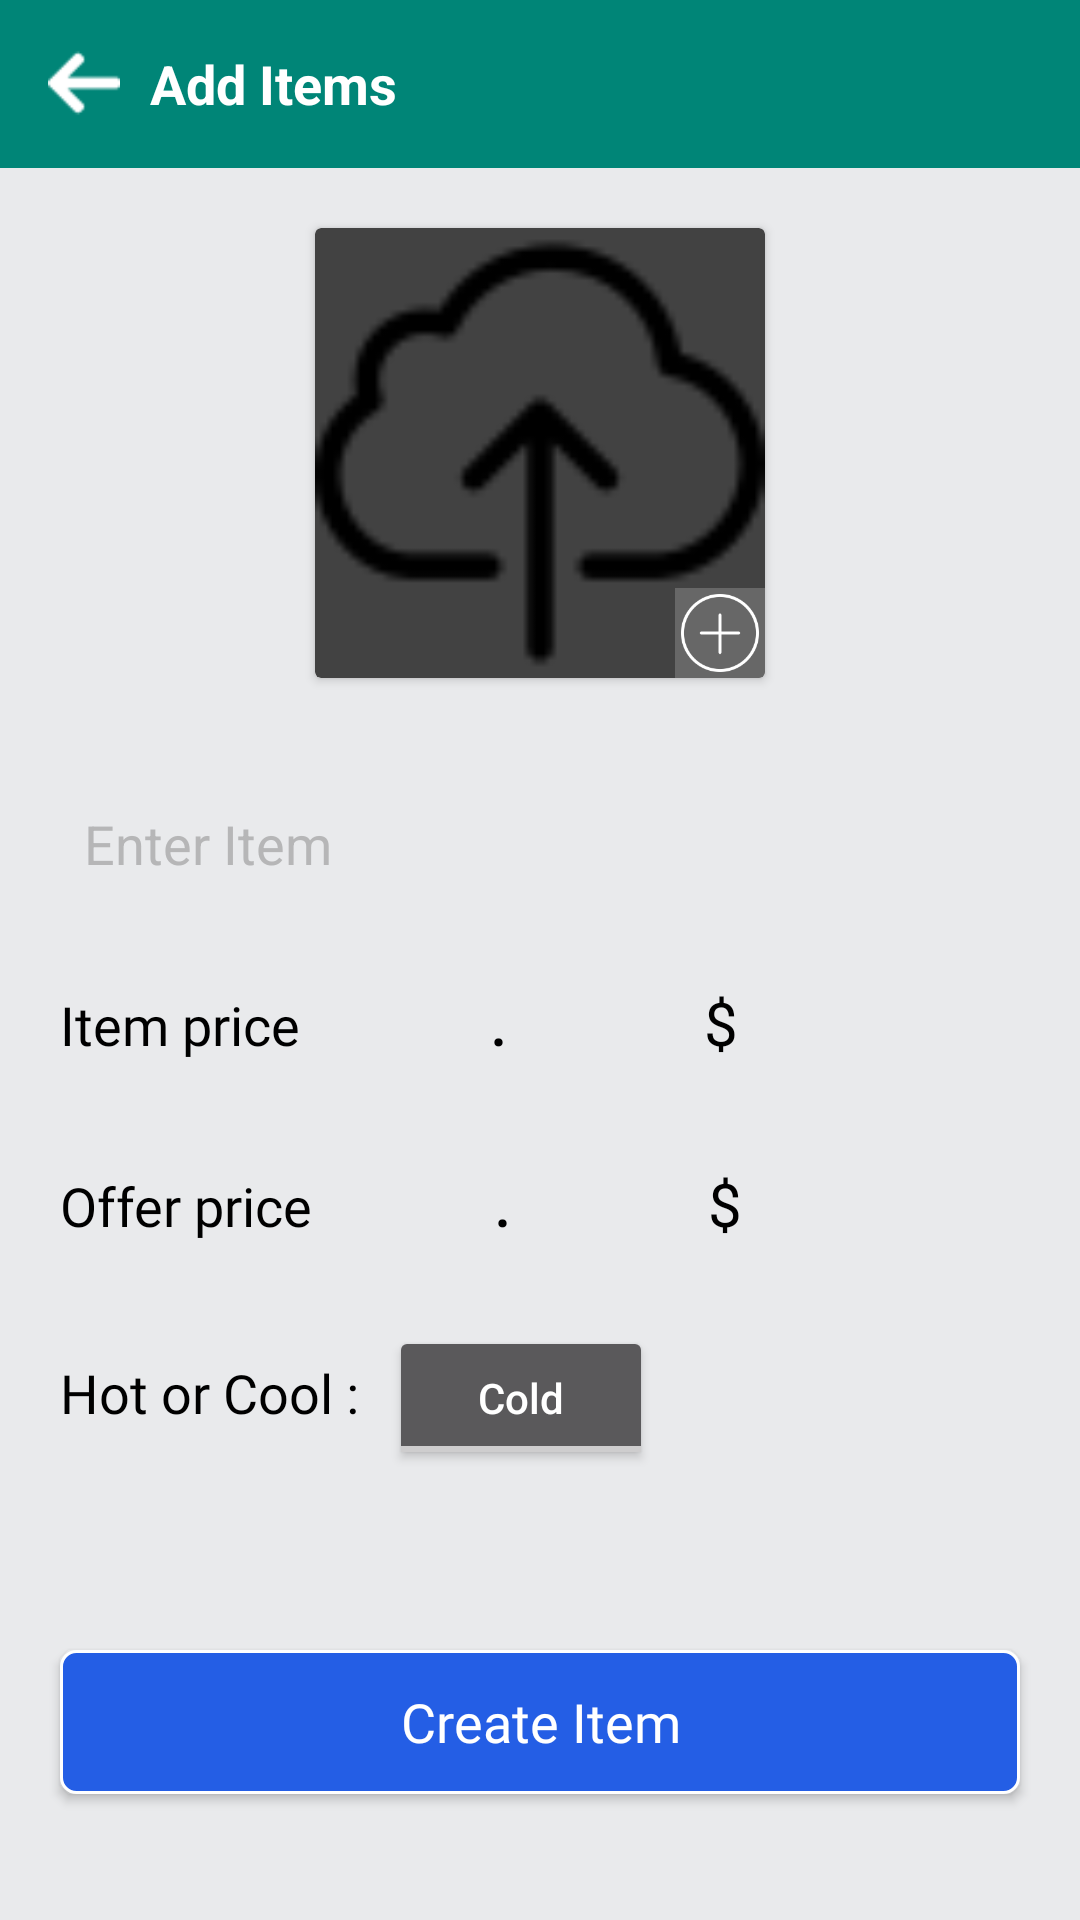

Where to tap for icons on this 1080 × 1920 app screen, as [x,y]:
back arrow: [84,83]
